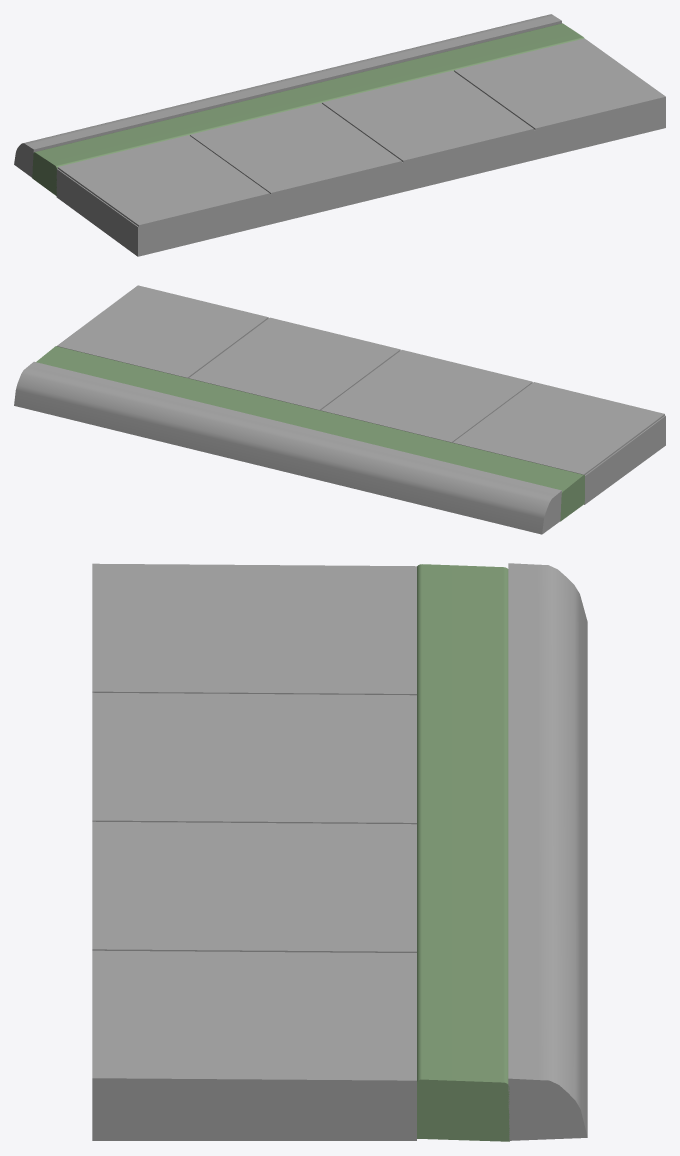
The model's file is sideWalk_smaller_modular.fbx.
The picture shows the model from 3 angles, top to bottom: view 1: azimuth 30°, elevation 25°; view 2: azimuth 150°, elevation 25°; view 3: azimuth 270°, elevation 25°; orthographic projection. The views are drawn at different scales.
Visible parts, largest first — view 1: SideWalk_Smaller_Modular1; view 2: SideWalk_Smaller_Modular1; view 3: SideWalk_Smaller_Modular1.
Boxes of the visible parts, x1,y1,x2,y2 form: SideWalk_Smaller_Modular1: [14, 14, 665, 256]; SideWalk_Smaller_Modular1: [14, 285, 665, 534]; SideWalk_Smaller_Modular1: [92, 563, 587, 1141].
Size of the model in its own units: 1016 by 58.42 by 413.
